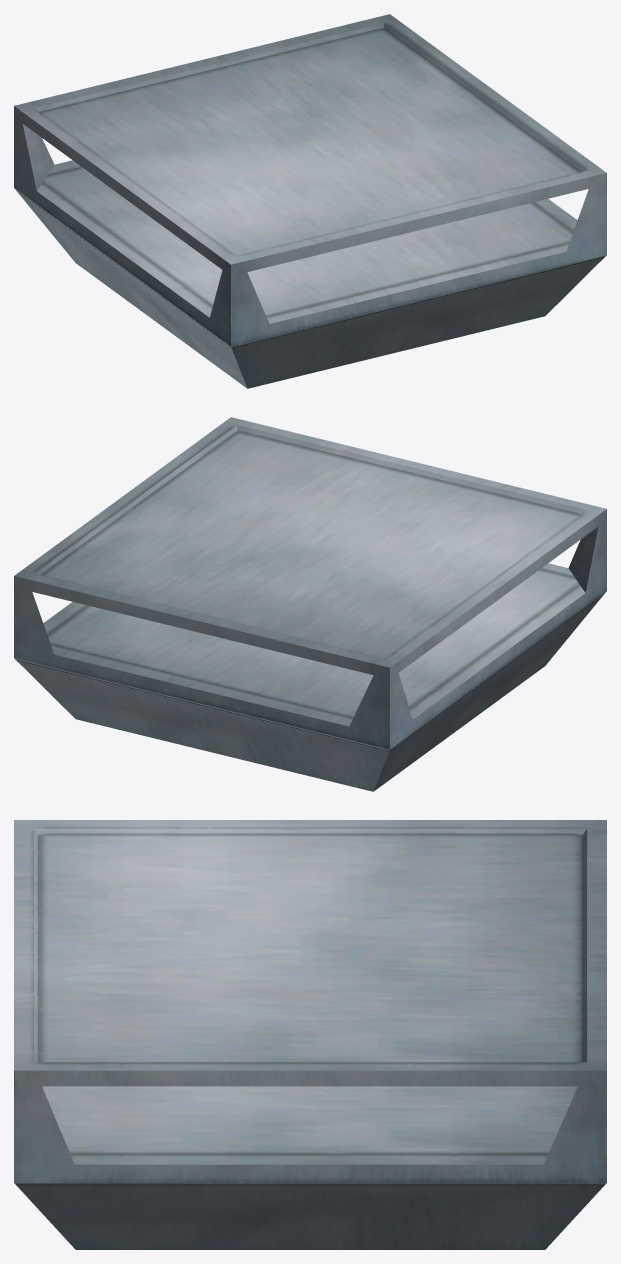
File: frn_all_tech_coffee_table_s01_l0.fbx
3 renders of one model, top to bottom at view 1: azimuth 30°, elevation 25°; view 2: azimuth 150°, elevation 25°; view 3: azimuth 270°, elevation 25°, orthographic. The views are drawn at different scales.
Visible parts, largest first — view 1: mesh_node; view 2: mesh_node; view 3: mesh_node.
Part boxes in pixels (box(x1,y1,x2,y2)): mesh_node: box(14, 14, 606, 388); mesh_node: box(14, 417, 606, 791); mesh_node: box(14, 820, 606, 1249).
Bounding box in the file's own units: 1.04 × 0.3977 × 1.04.
1 material, 1 textured.
